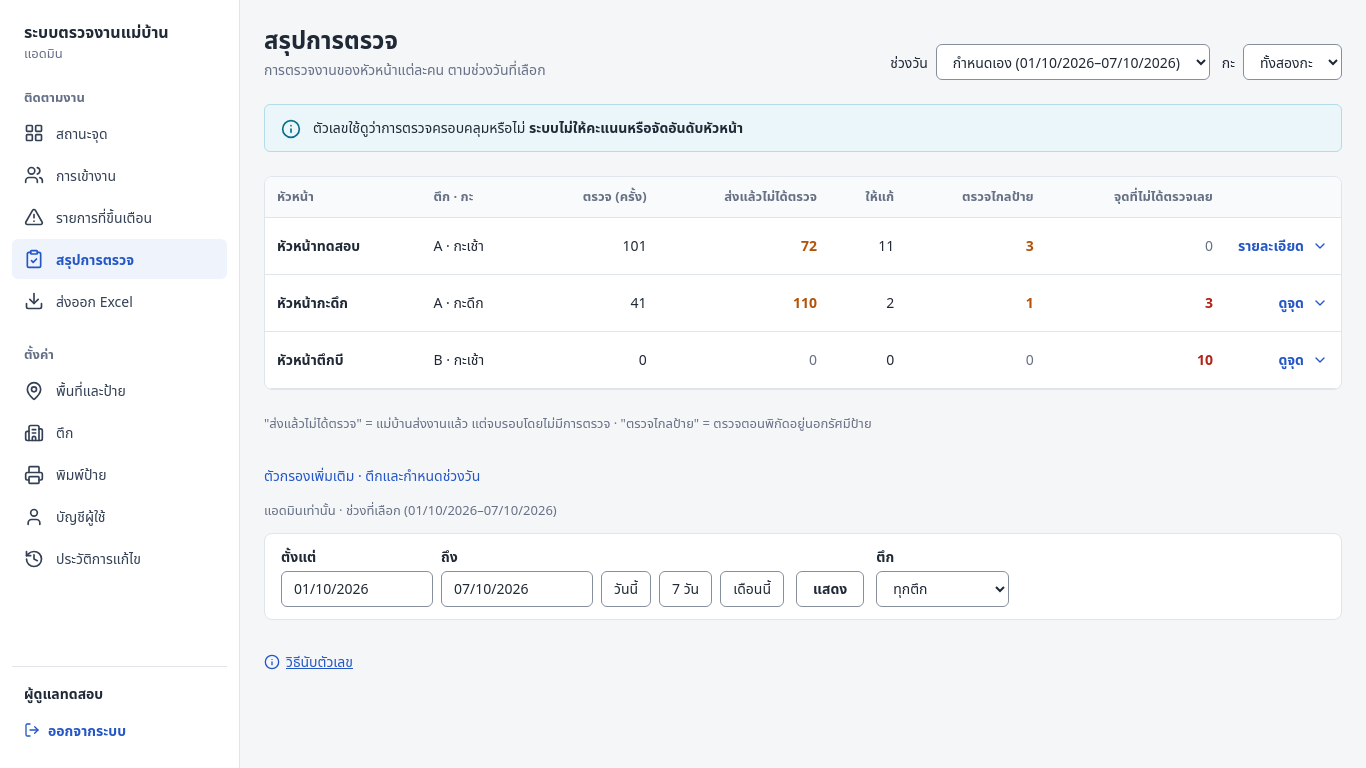
Test: InspectionSummaryPage (D7, facility-0048 rule 5) › the fields follow the address when it changes while the page stays open
The width and height of the screenshot is (1366, 768).
Expected: the text "แอดมินเท่านั้น · ช่วงที่เลือก (01/10/2026–07/10/2026)" is shown, [264,501,557,519]
Click the link "สรุปการตรวจ". click: {"x": 120, "y": 259}
box: [12,239,227,279]
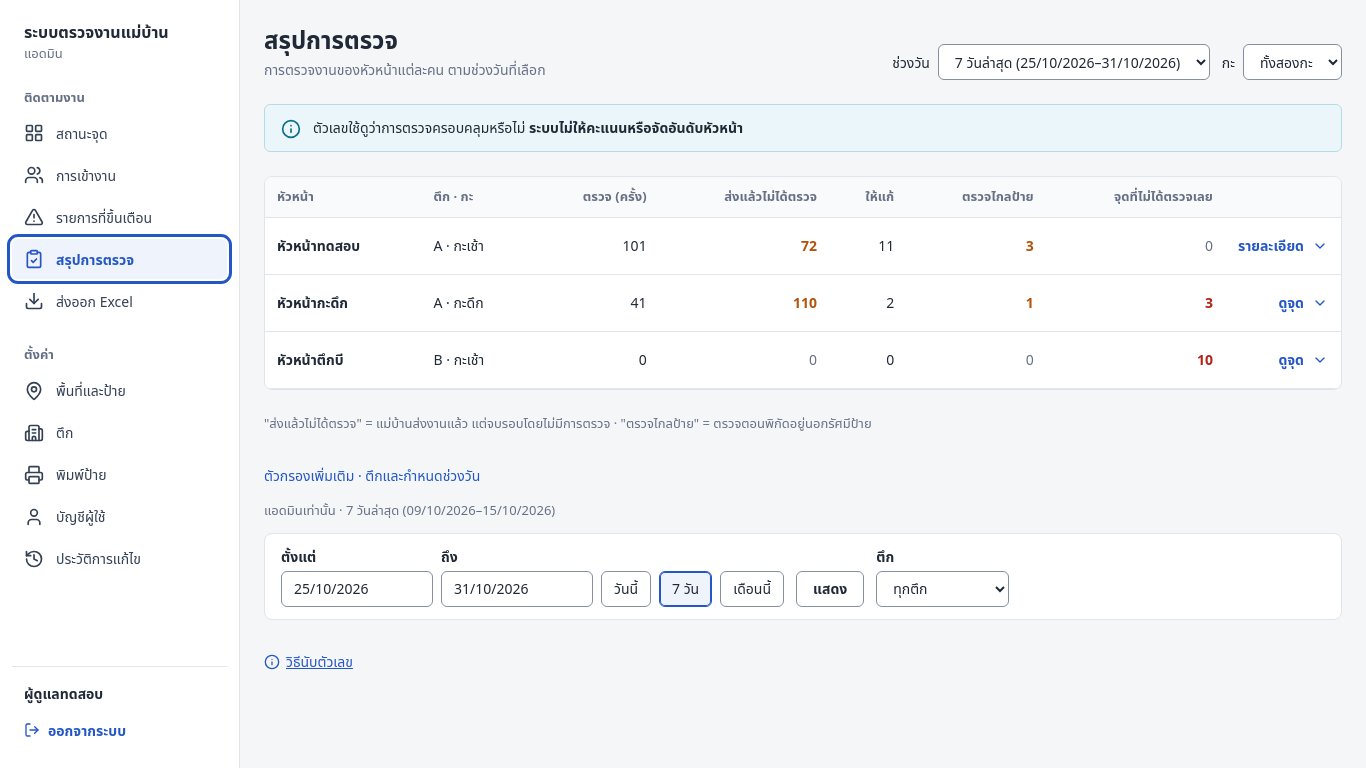
Expected: the text "แอดมินเท่านั้น · 7 วันล่าสุด (09/10/2026–15/10/2026)" is shown, [264,501,555,519]
